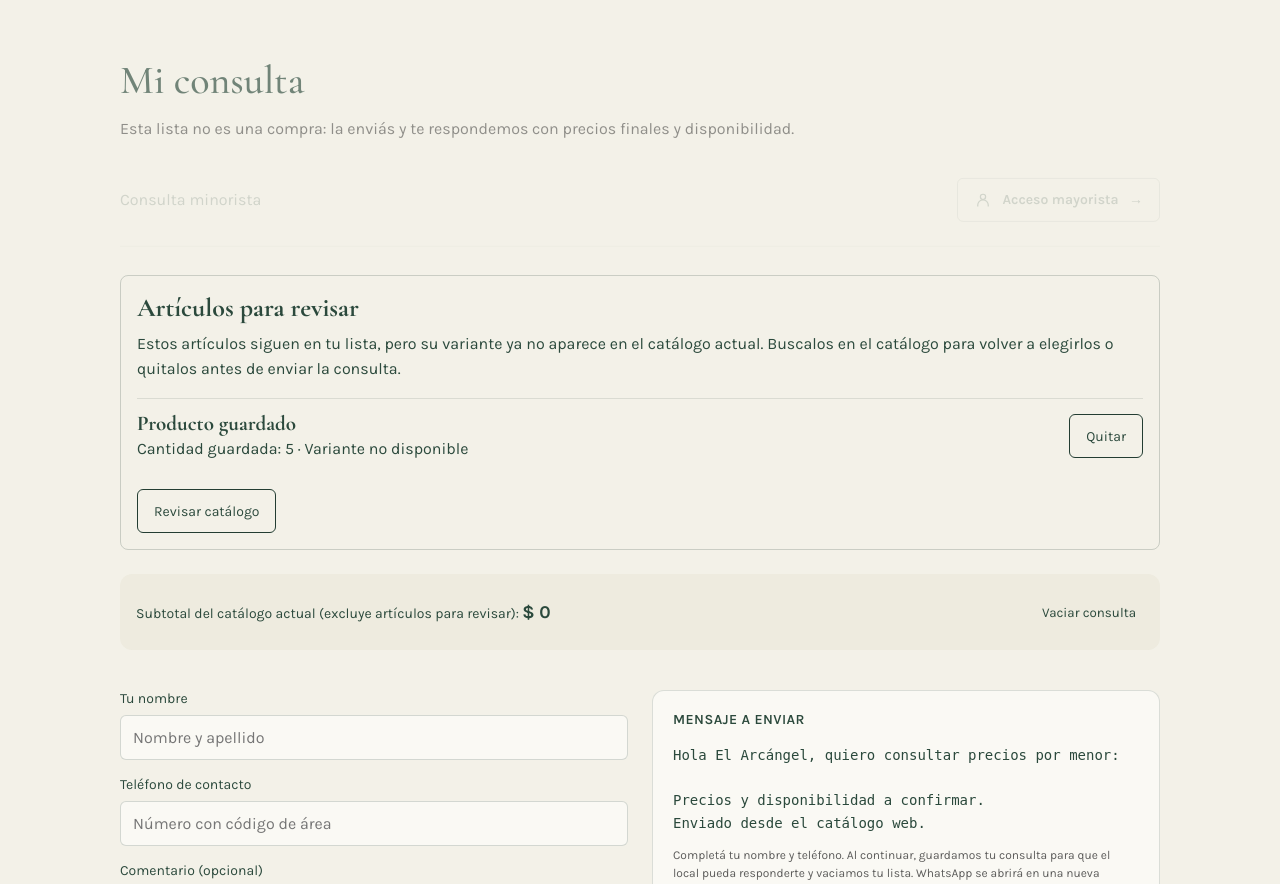
Muestra los artículos guardados que ya no encuentra en el catálogo sin ocultar la lista
Check: the heading "Producto guardado" is shown, box [137, 411, 296, 436]
Check: the text "Cantidad guardada: 5 · Variante no disponible" is shown, box [137, 436, 468, 461]
Click the button with aria-label "Quitar Producto guardado" at (1106, 436), box [1069, 414, 1143, 458]
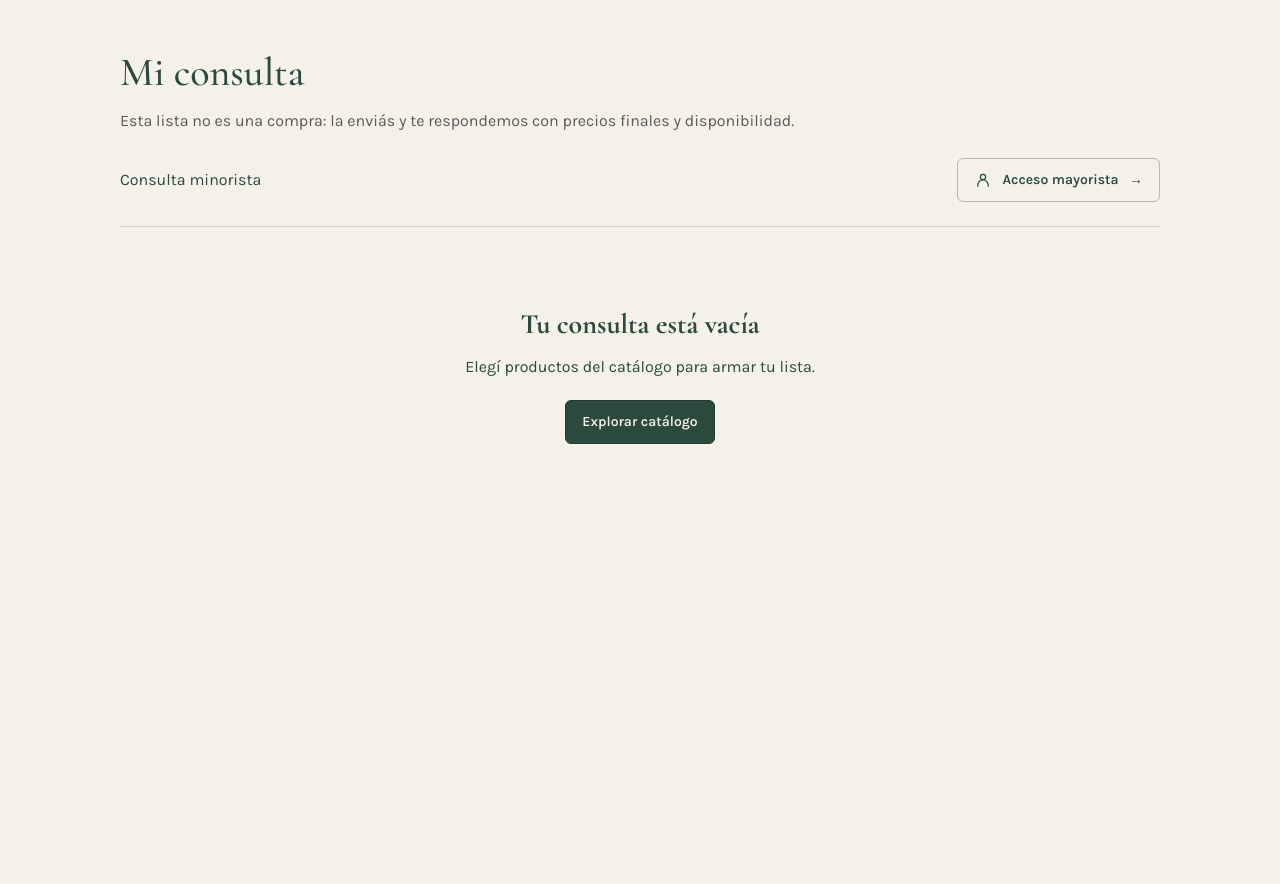
Check: the heading "Tu consulta está vacía" is shown, box [520, 307, 760, 341]
